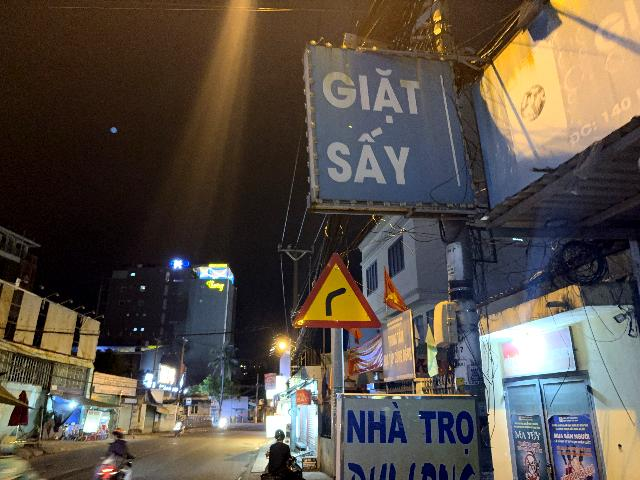cho-ngoat-nguy-hiem-ben-phai: (292, 250, 381, 329)
